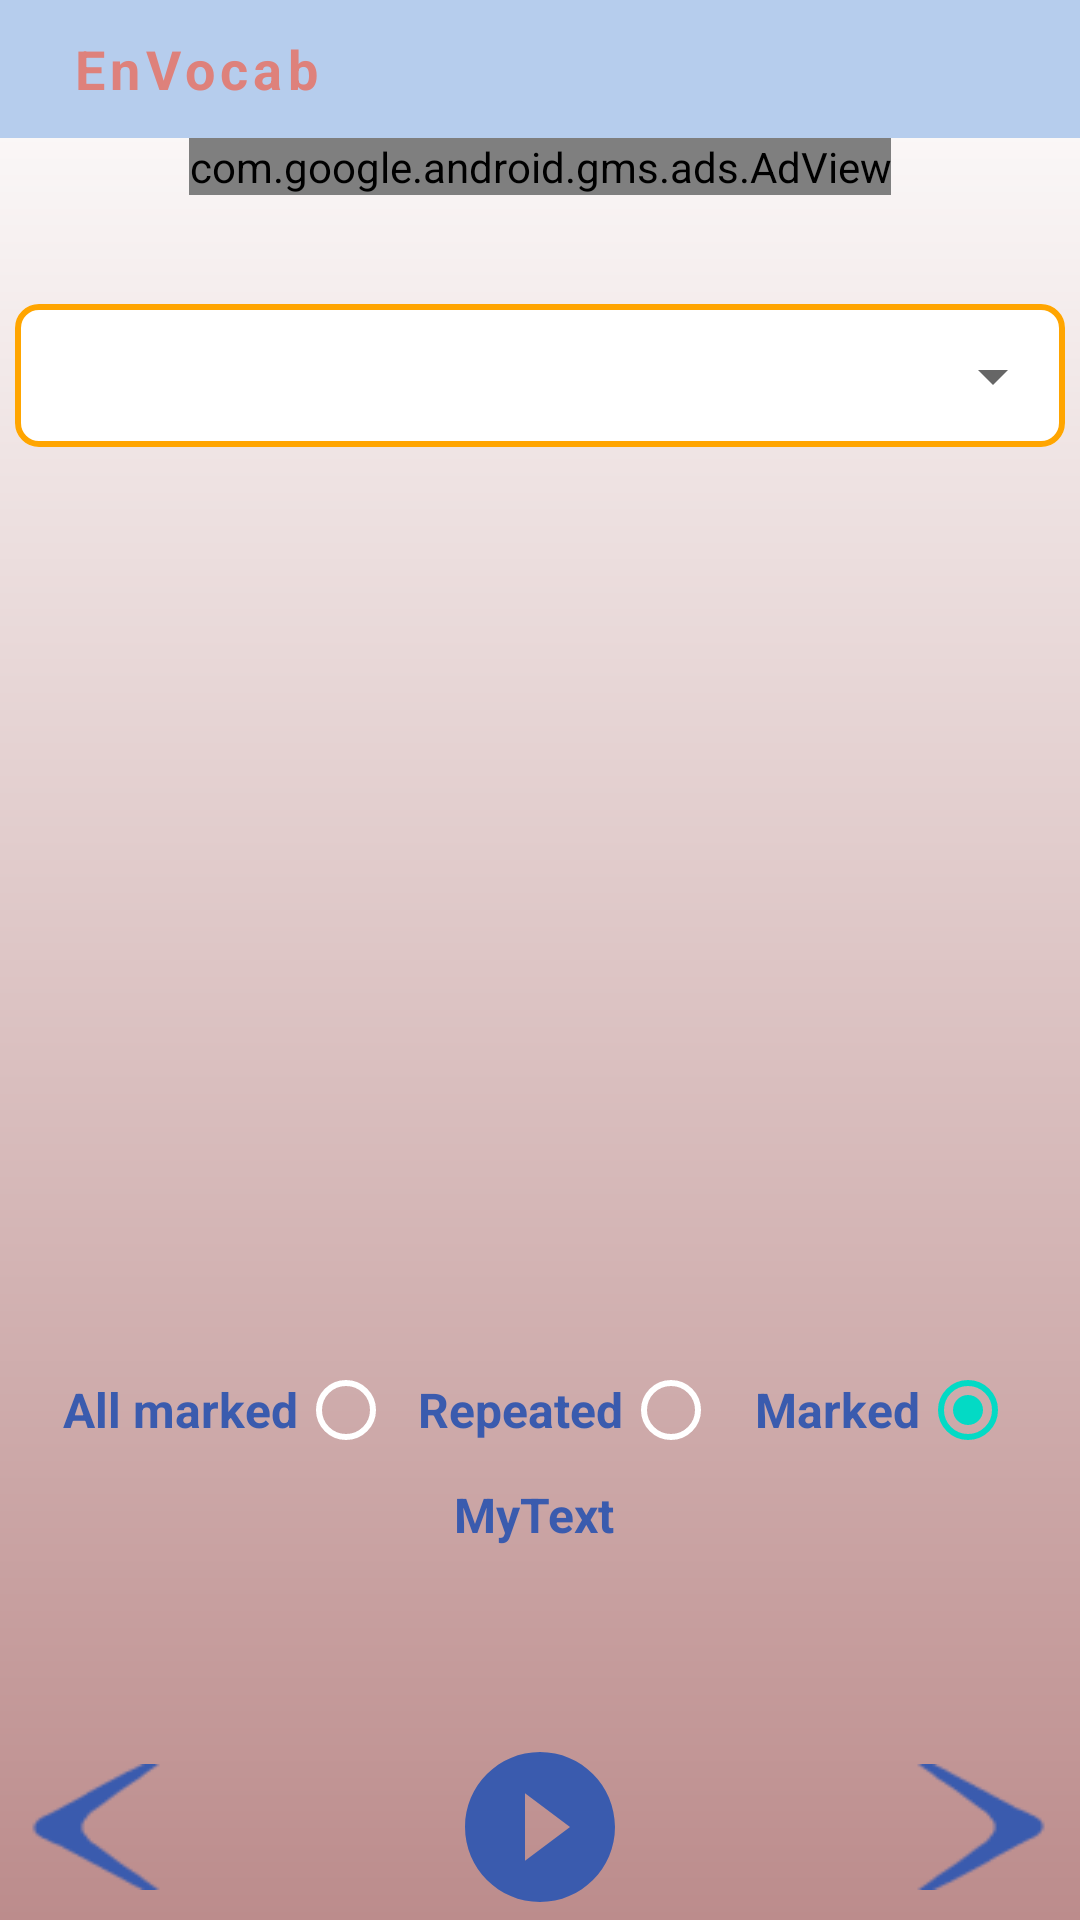

Point at icon controls on the screen. Image size 1080x1920, points as [x,y].
back arrow: [95,1827]
next arrow: [981,1827]
